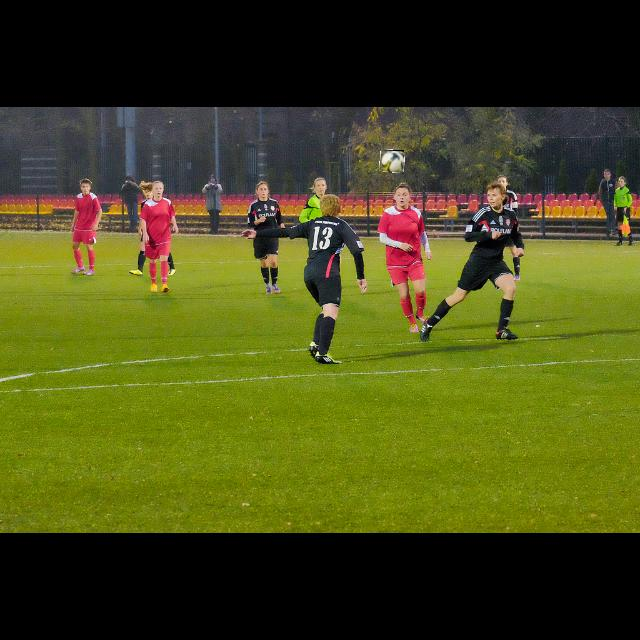Football: (380, 150, 404, 172)
